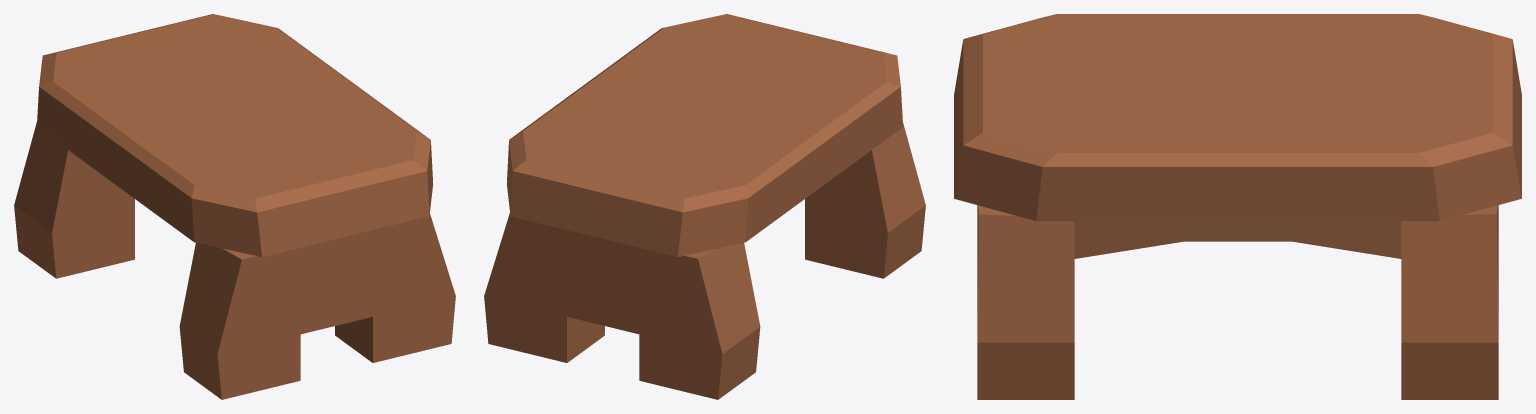
File: seat.fbx
The picture shows the model from 3 angles, left to right: view 1: azimuth 30°, elevation 25°; view 2: azimuth 150°, elevation 25°; view 3: azimuth 270°, elevation 25°; orthographic projection. The views are drawn at different scales.
Visible parts, largest first — view 1: Cube.029; view 2: Cube.029; view 3: Cube.029.
Boxes of the visible parts, x1=… form: Cube.029: x1=14, y1=14, x2=455, y2=399; Cube.029: x1=484, y1=14, x2=925, y2=399; Cube.029: x1=954, y1=14, x2=1521, y2=399.
Bounding box in the file's own units: 0.2141 × 0.1633 × 0.3434.
